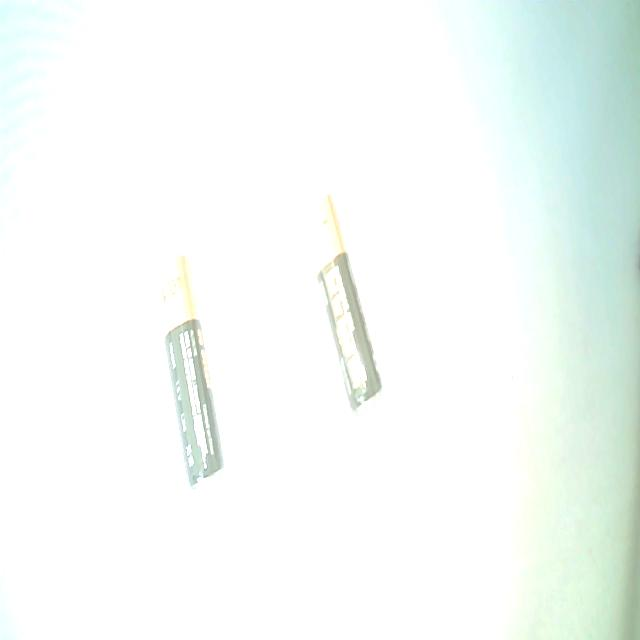AA: (300, 192, 384, 418), (152, 253, 226, 497)
